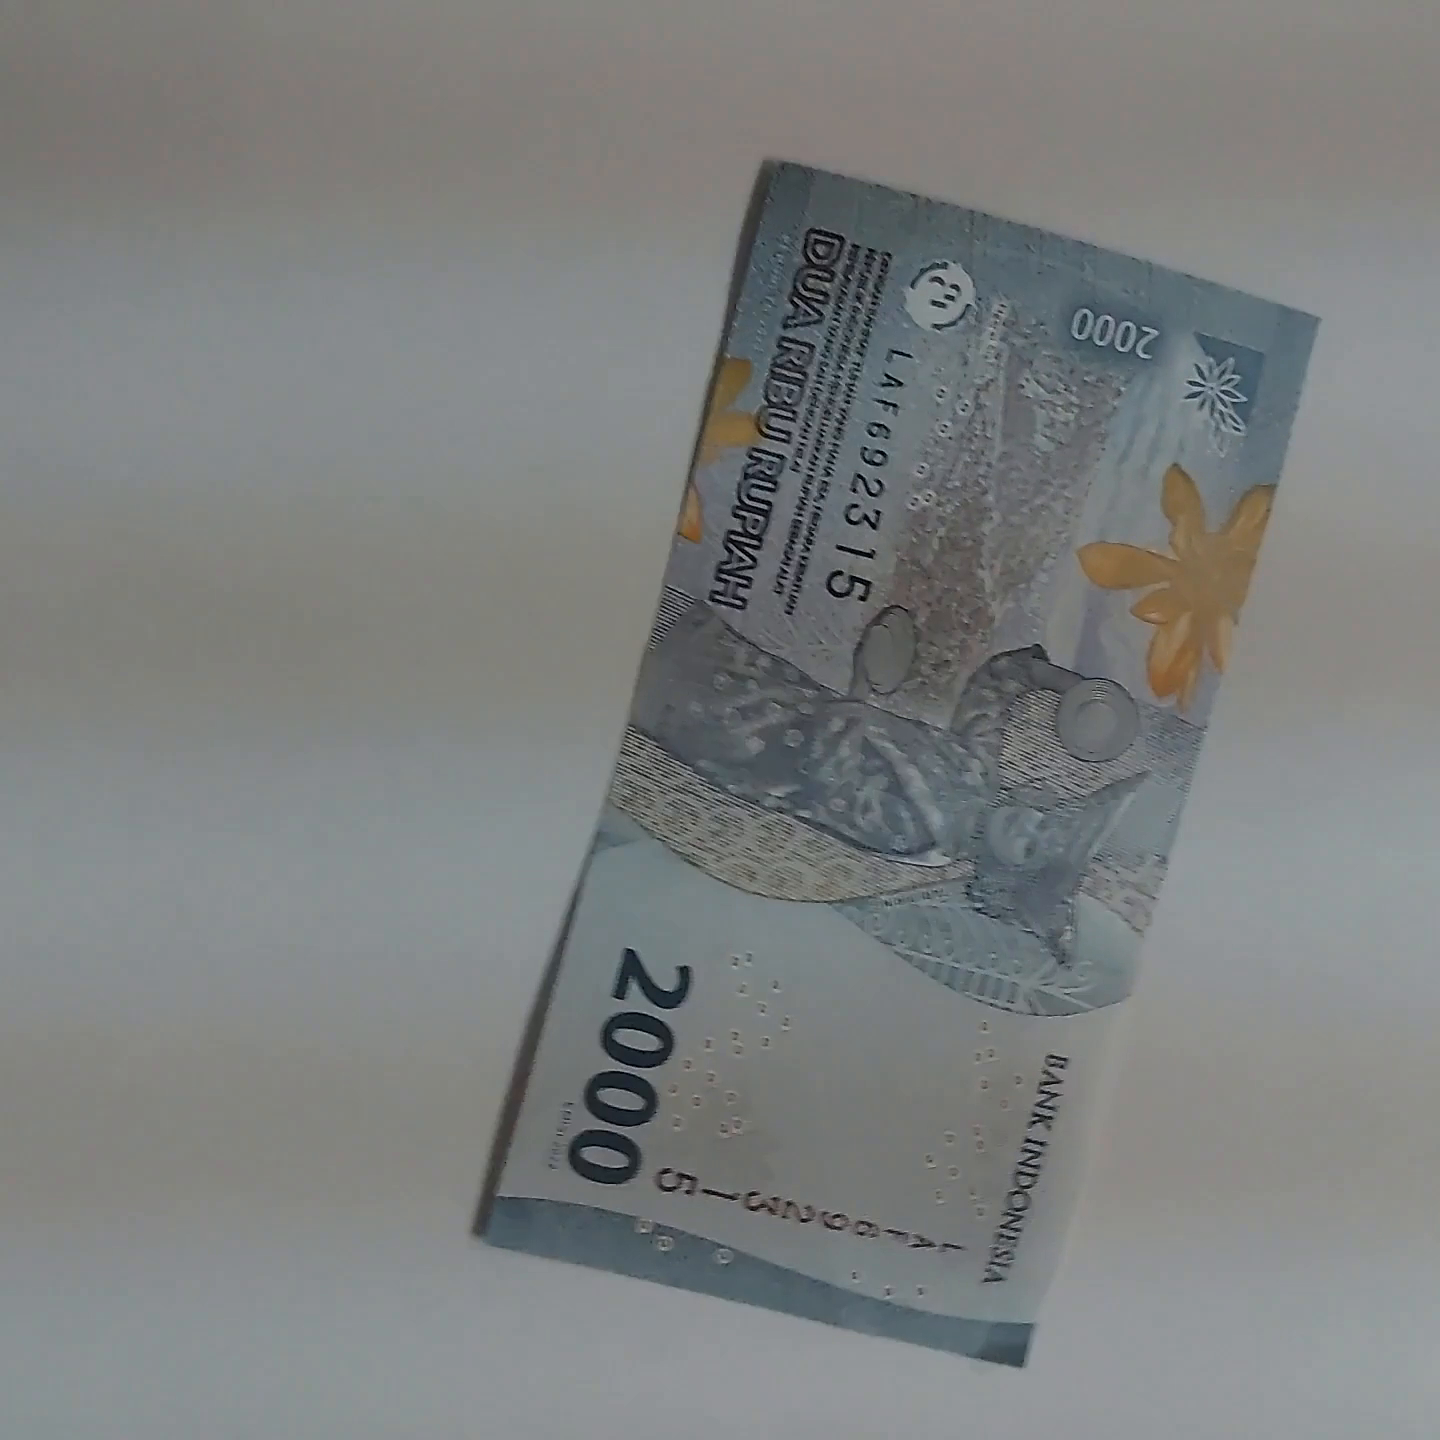2k: (725, 153, 1354, 1283)
